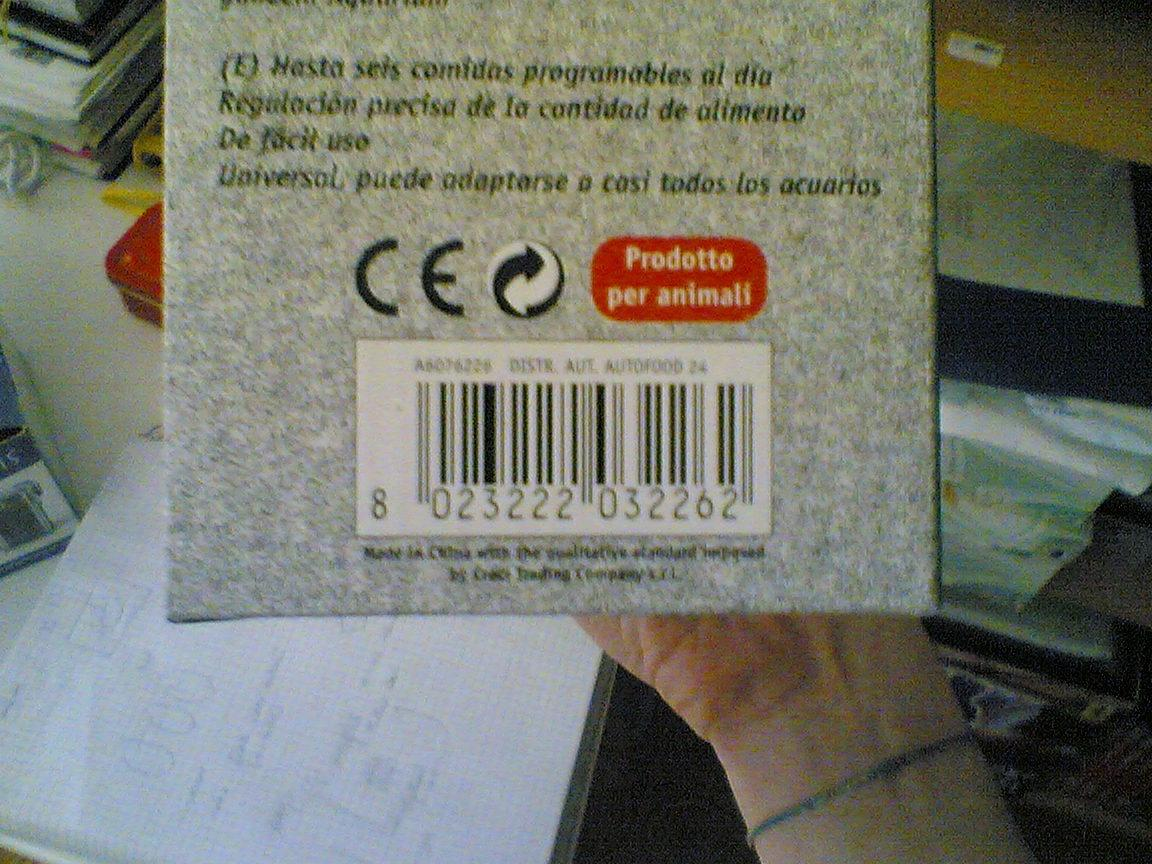Barcode: (356, 342, 773, 535)
